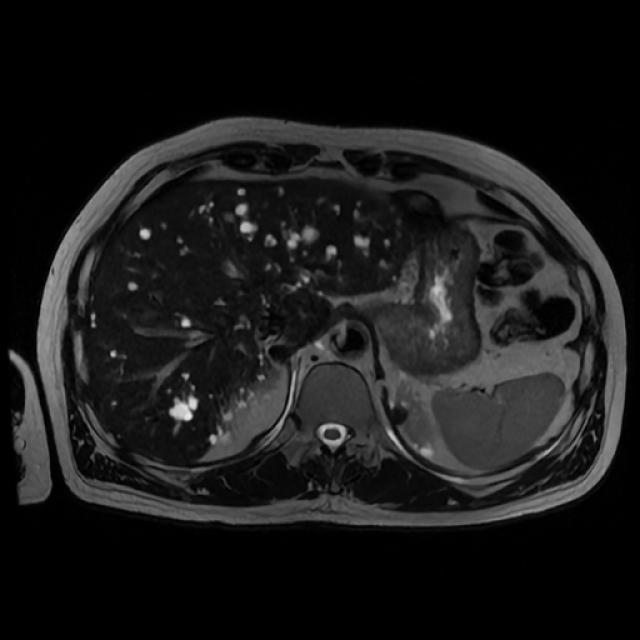sag: (215, 369, 280, 447)
sol: (393, 379, 438, 463)
